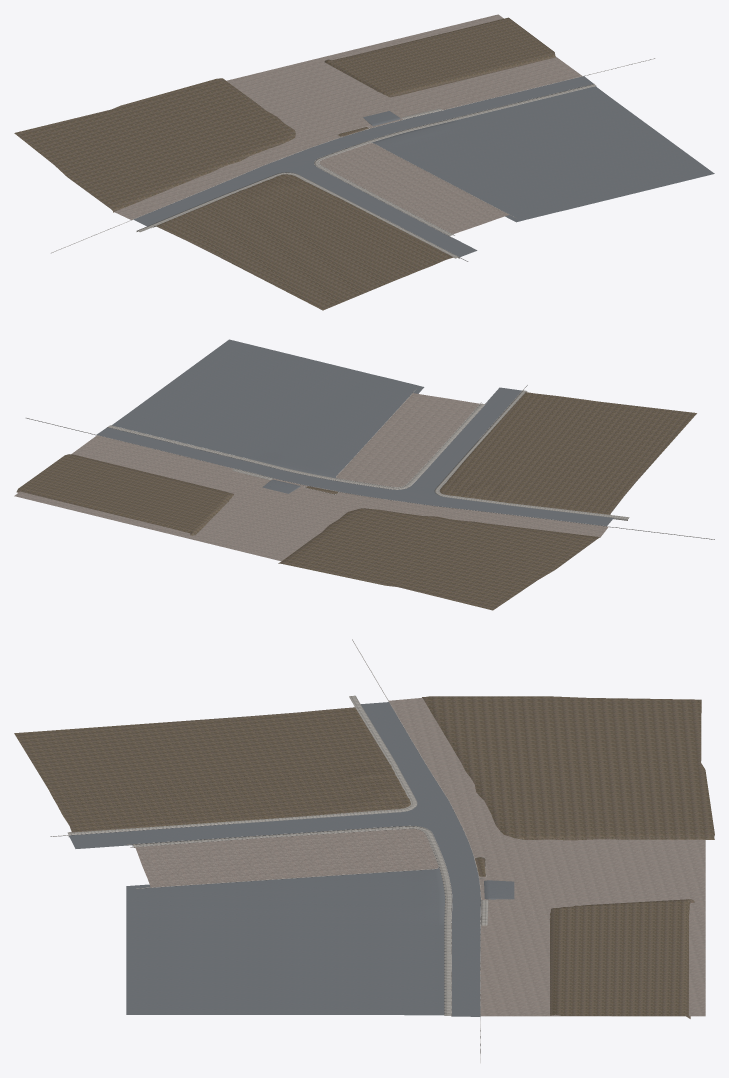
File: SM_ARC_Road_B_01.fbx
3 renders of one model, top to bottom at view 1: azimuth 30°, elevation 25°; view 2: azimuth 150°, elevation 25°; view 3: azimuth 270°, elevation 25°, orthographic. The views are drawn at different scales.
Parts seen in each view (by area): view 1: Plane.016; view 2: Plane.016; view 3: Plane.016.
Boxes of the visible parts, <box> form: Plane.016: <box>14,14,714,310</box>; Plane.016: <box>14,339,714,610</box>; Plane.016: <box>14,639,714,1062</box>.
Size of the model in its own units: 32778 by 206 by 22907.
